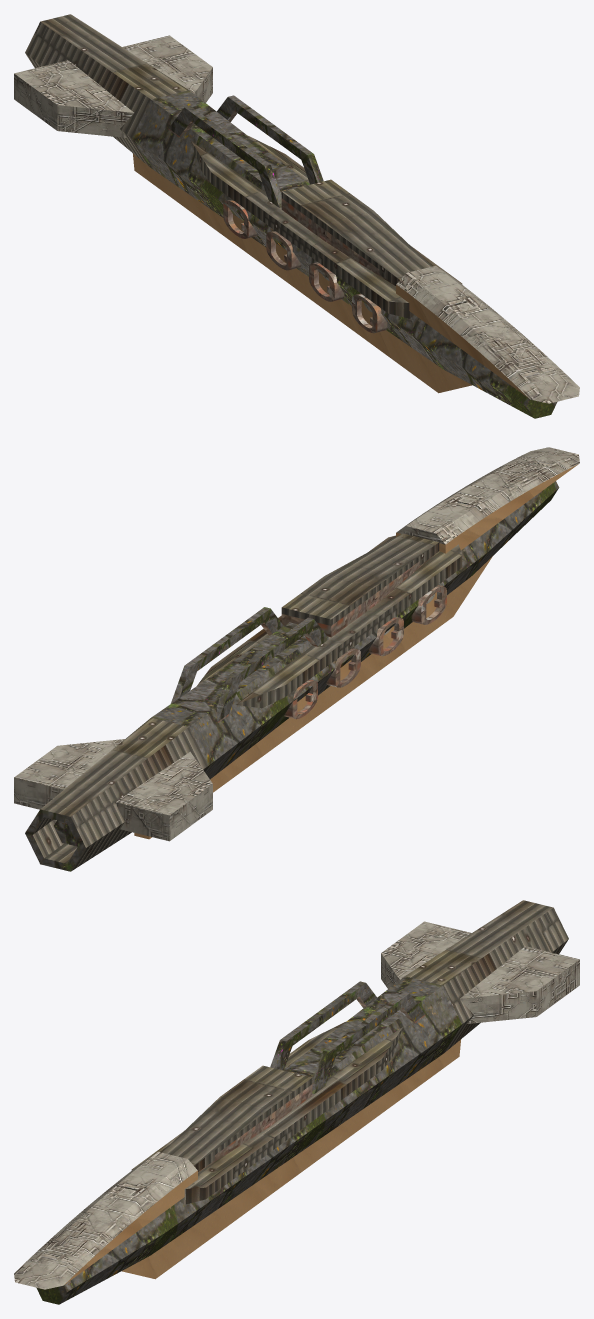
The model's file is missile.fbx.
3 views of the same model, one above another, from view 1: azimuth 30°, elevation 25°; view 2: azimuth 150°, elevation 25°; view 3: azimuth 330°, elevation 25° (orthographic).
Visible parts, largest first — view 1: engine_airplane%_2, glass_round_17, ship_frontSquare_23, landing_float%_19, engine_intake_24, plane_elevator_21, ship_cargoOpen_22, plane_elevator_20, detail_windowDoor_25, detail_windowDoor_26, detail_windowDoor_27, detail_windowDoor_29 (+1 smaller); view 2: engine_airplane%_2, glass_round_17, ship_frontSquare_23, landing_float%_19, plane_elevator_21, engine_intake_24, ship_cargoOpen_22, plane_elevator_20, detail_windowDoor_25, detail_windowDoor_26, detail_windowDoor_27, landing_float%_18 (+1 smaller); view 3: engine_airplane%_2, glass_round_17, ship_frontSquare_23, engine_intake_24, landing_float%_18, plane_elevator_20, ship_cargoOpen_22, plane_elevator_21, landing_float%_19.
Part boxes in pixels (<box>): engine_airplane%_2: <box>25,14,557,418</box>; glass_round_17: <box>396,266,579,403</box>; ship_frontSquare_23: <box>281,179,431,286</box>; landing_float%_19: <box>191,141,413,318</box>; engine_intake_24: <box>133,153,471,393</box>; plane_elevator_21: <box>14,60,133,137</box>; ship_cargoOpen_22: <box>168,95,323,207</box>; plane_elevator_20: <box>122,35,212,102</box>; detail_windowDoor_25: <box>352,293,387,333</box>; detail_windowDoor_26: <box>309,262,344,301</box>; detail_windowDoor_27: <box>266,231,301,270</box>; detail_windowDoor_29: <box>223,200,257,238</box>; engine_airplane%_2: <box>25,481,559,871</box>; glass_round_17: <box>396,447,579,553</box>; ship_frontSquare_23: <box>281,533,439,637</box>; landing_float%_19: <box>236,544,462,708</box>; plane_elevator_21: <box>115,751,212,841</box>; engine_intake_24: <box>134,556,492,839</box>; ship_cargoOpen_22: <box>170,607,328,722</box>; plane_elevator_20: <box>14,739,124,809</box>; detail_windowDoor_25: <box>411,585,446,624</box>; detail_windowDoor_26: <box>368,616,403,656</box>; detail_windowDoor_27: <box>326,648,360,687</box>; landing_float%_18: <box>197,535,395,685</box>; engine_airplane%_2: <box>36,900,568,1304</box>; glass_round_17: <box>14,1152,197,1289</box>; ship_frontSquare_23: <box>162,1065,312,1172</box>; engine_intake_24: <box>122,1039,460,1279</box>; landing_float%_18: <box>180,1027,402,1204</box>; plane_elevator_20: <box>460,946,579,1023</box>; ship_cargoOpen_22: <box>270,981,425,1093</box>; plane_elevator_21: <box>381,921,471,988</box>; landing_float%_19: <box>131,1022,345,1170</box>.
Bounding box in the file's own units: 6.28 × 4.5 × 35.54.
